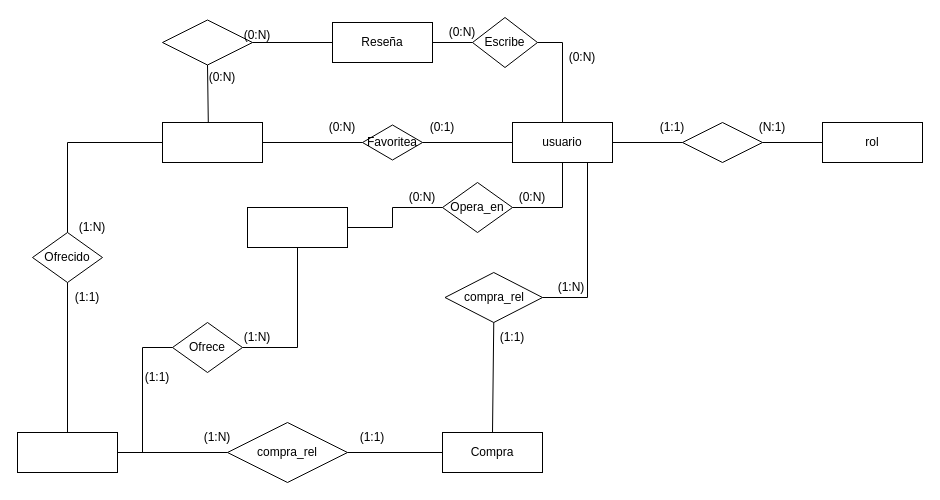
This 940x500 diagram has some shape labels left out. Each missing label, with the centre of its shape:
"Auto" belongs at (212,142).
"Concesionaria" belongs at (297,227).
"es_reseñado" belongs at (207,42).
"Oferta" belongs at (67,452).
"tiene_rol" belongs at (722,142).
